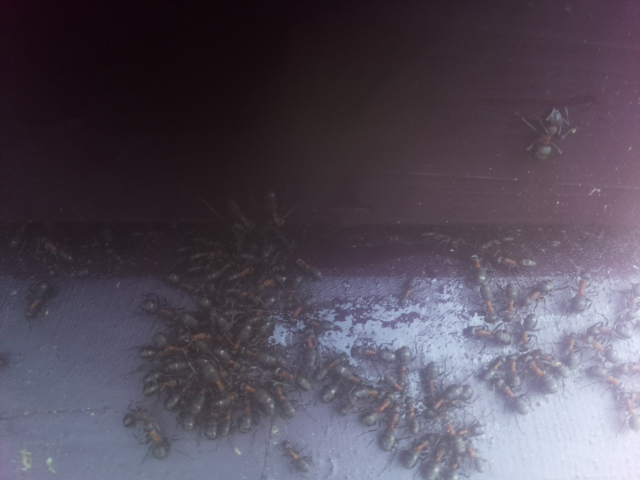ant: (523, 94, 577, 172), (129, 408, 178, 467), (487, 368, 535, 422), (423, 379, 479, 420), (466, 251, 500, 315), (276, 429, 318, 480), (417, 438, 461, 480), (397, 429, 437, 475), (526, 351, 563, 398), (356, 392, 399, 432), (237, 377, 276, 418), (22, 276, 54, 324), (268, 379, 301, 424), (266, 366, 317, 393), (180, 383, 205, 436), (460, 437, 488, 479), (134, 331, 172, 360), (471, 324, 515, 349), (585, 362, 622, 390), (524, 276, 557, 305), (570, 268, 592, 311), (450, 420, 488, 444), (621, 389, 640, 436), (516, 311, 539, 348), (421, 359, 442, 397), (163, 269, 194, 294), (501, 282, 523, 317), (293, 258, 323, 280), (141, 378, 178, 395)
